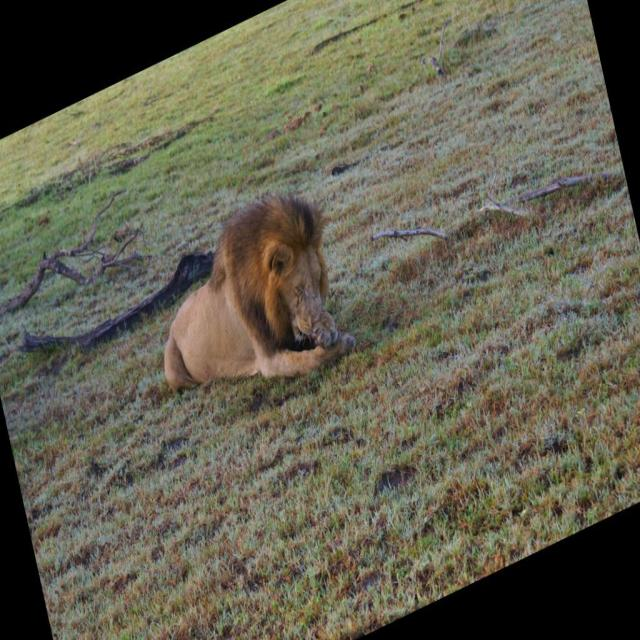Lion: (138, 169, 358, 443)
